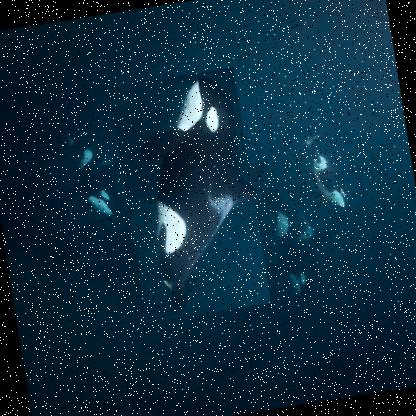killer_whale: (107, 66, 270, 322)
